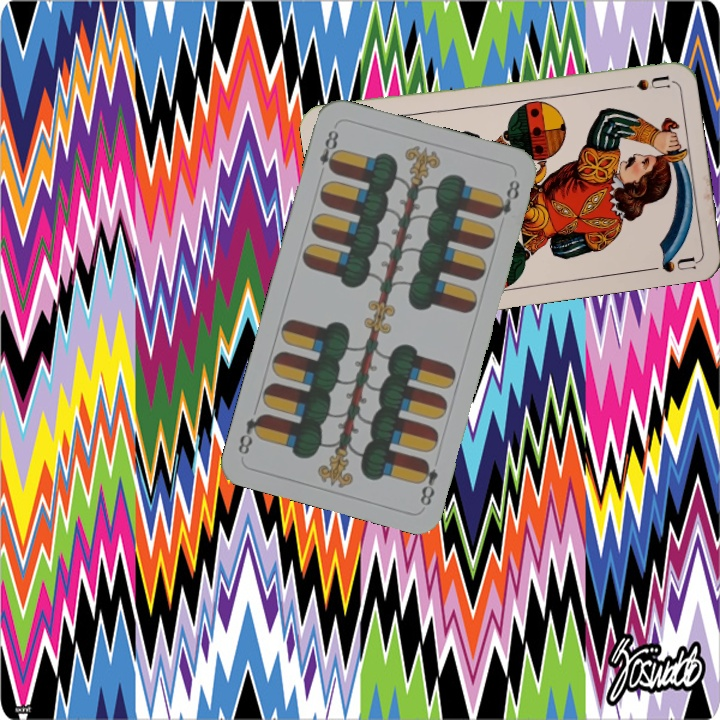E8: (414, 455, 441, 509), (315, 125, 342, 175)
SU: (611, 71, 671, 93)
